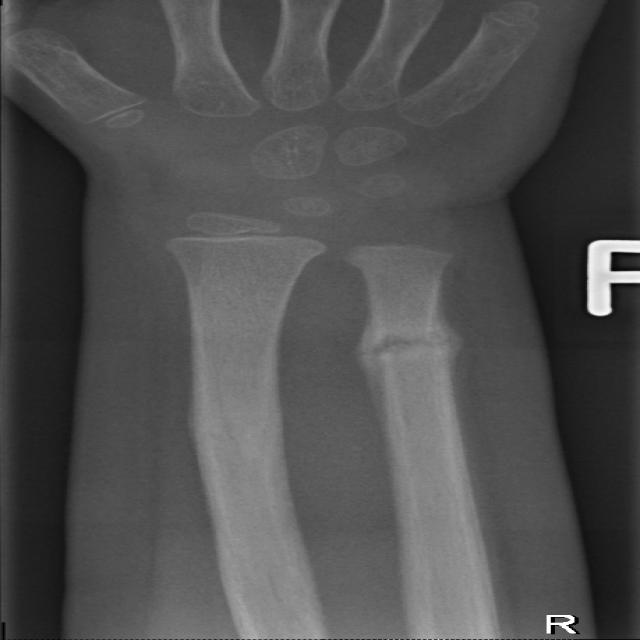radius fracture: (134, 298, 338, 579)
ulna fracture: (332, 289, 502, 459)
